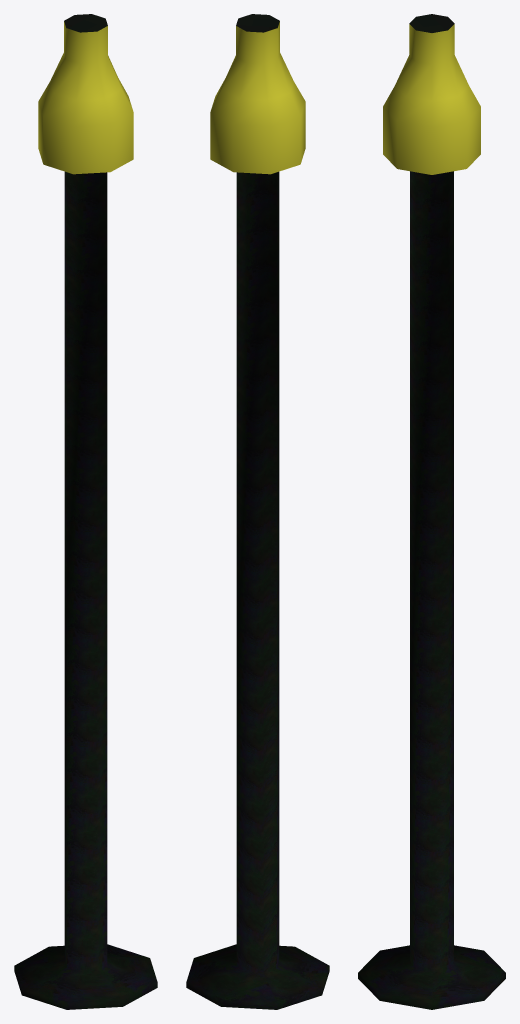
File: Streetlight.obj
3 views of the same model, side by side, from view 1: azimuth 30°, elevation 25°; view 2: azimuth 150°, elevation 25°; view 3: azimuth 270°, elevation 25° (orthographic).
Parts seen in each view (by area): view 1: Cylinder; view 2: Cylinder; view 3: Cylinder.
Part boxes in pixels (box(x1,y1,x2,y2)): Cylinder: box(14, 14, 157, 1009); Cylinder: box(186, 14, 329, 1009); Cylinder: box(358, 14, 505, 1009).
Size of the model in its own units: 1.01 by 7.22 by 1.01.
Materials: 2 (1 with a texture image).
